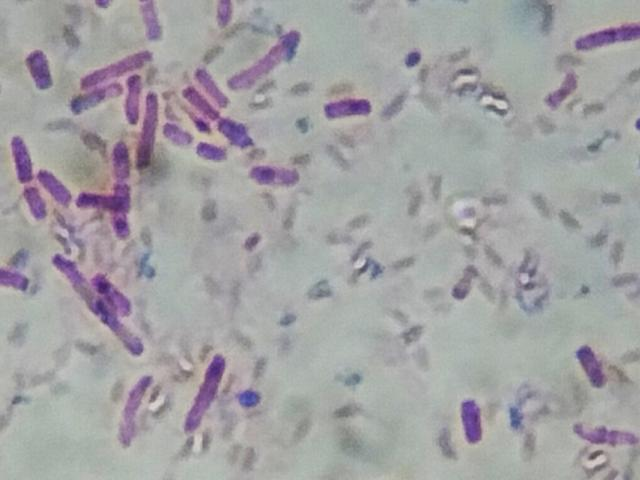E. coli: (234, 33, 312, 93), (179, 355, 233, 431), (120, 368, 155, 451), (79, 53, 168, 83), (98, 308, 148, 359), (59, 257, 99, 312), (574, 20, 640, 53), (139, 92, 165, 163), (99, 270, 139, 316), (575, 337, 607, 392), (455, 394, 487, 448), (545, 68, 585, 109), (255, 162, 304, 195), (24, 48, 60, 89), (326, 96, 375, 126), (134, 0, 167, 42), (210, 4, 240, 42), (184, 88, 221, 118), (78, 188, 126, 211), (68, 88, 126, 107), (2, 260, 32, 292), (198, 70, 231, 99), (223, 119, 256, 147), (40, 168, 69, 198), (165, 118, 198, 144), (8, 132, 29, 172), (126, 79, 146, 120), (24, 186, 48, 220), (114, 207, 136, 243), (197, 138, 229, 160), (398, 47, 426, 72), (112, 145, 127, 182)
